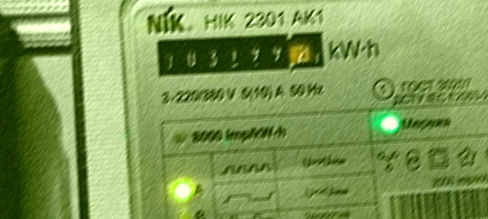0: (161, 48, 175, 70), (184, 46, 198, 67)
1: (228, 42, 240, 62)
3: (206, 47, 219, 67)
6: (296, 48, 307, 65)
9: (249, 41, 262, 62), (270, 41, 283, 61)
screen: (149, 20, 335, 90)
